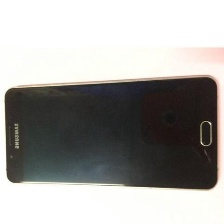phone: (0, 69, 222, 194)
